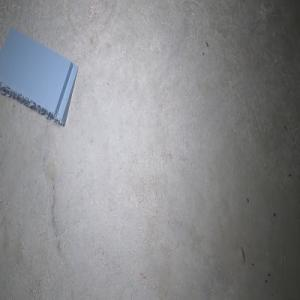PlasticPart: (0, 26, 78, 126)
